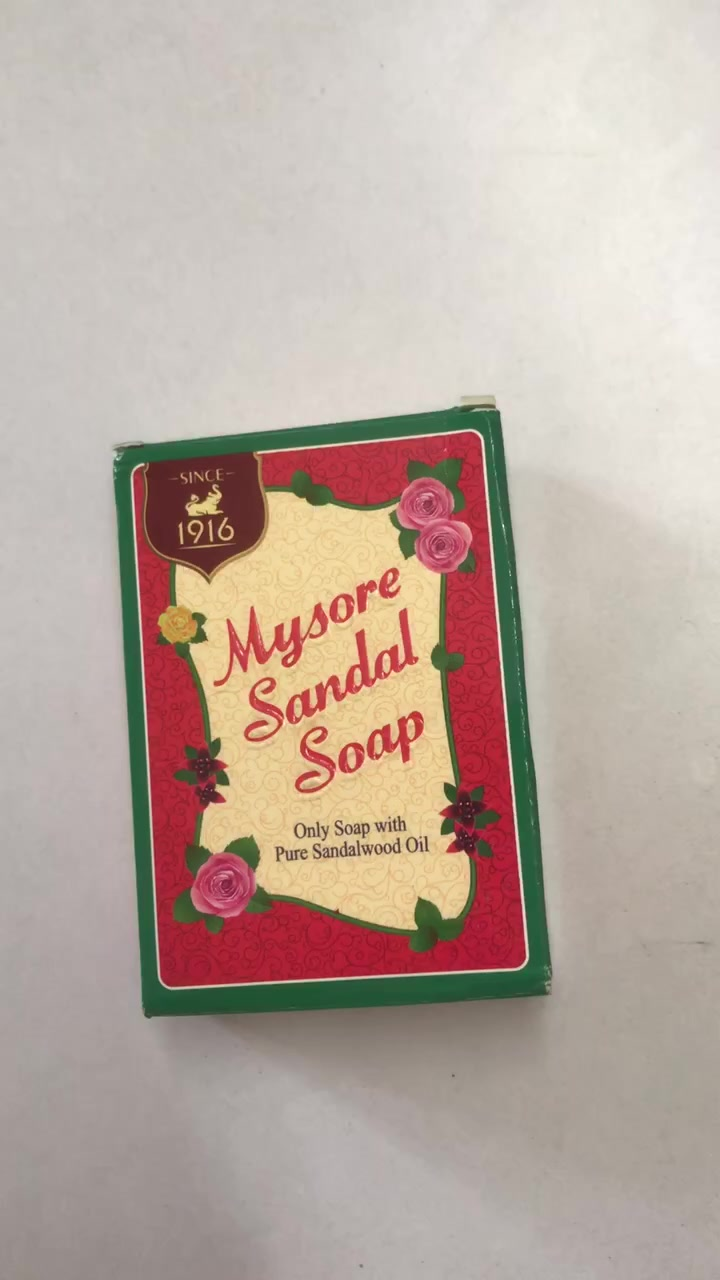mysore sandal soap: (114, 407, 549, 1020)
